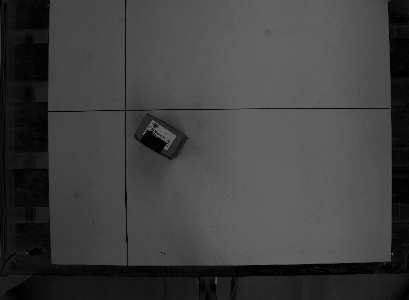b6: (132, 111, 188, 163)
